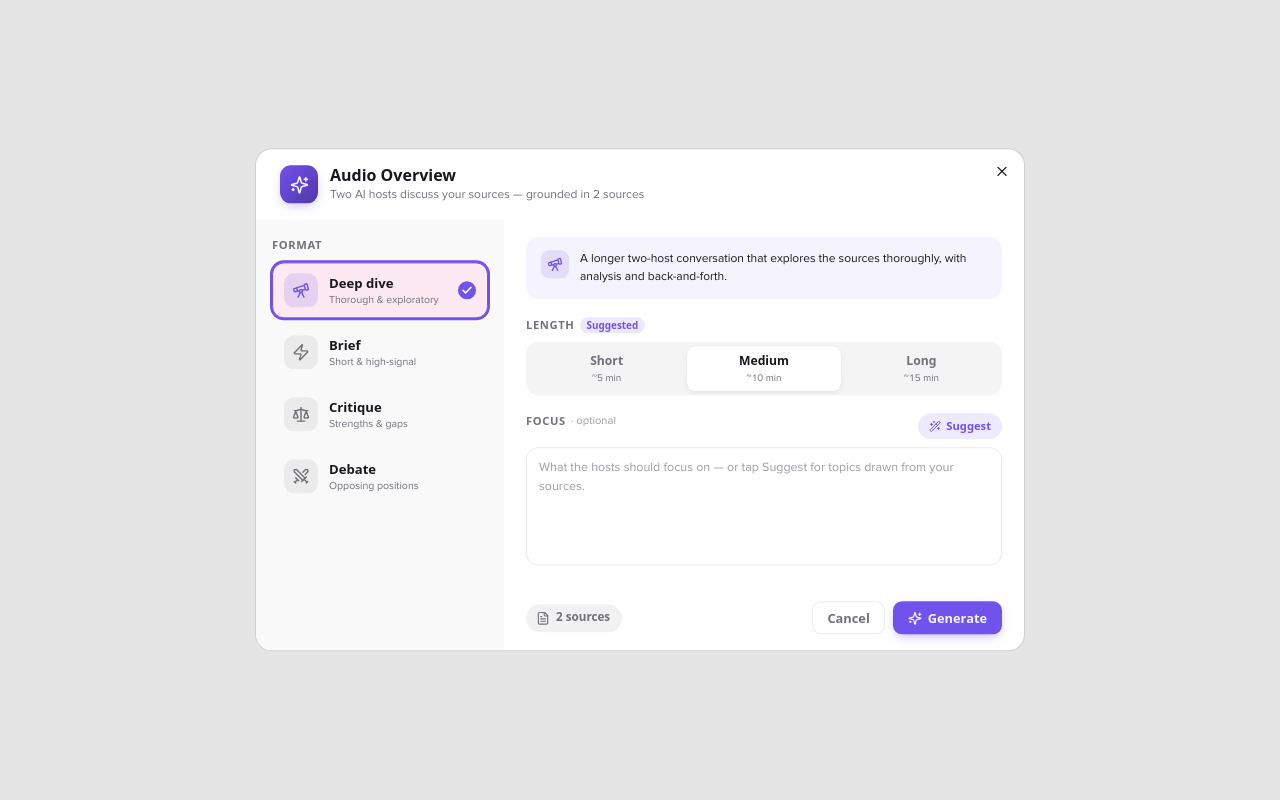
Scenario: AudioOverviewSetup — format & length › shows the selected format description
Click the button "Debate Opposing positions" at (380, 476), box [272,448,488,504]
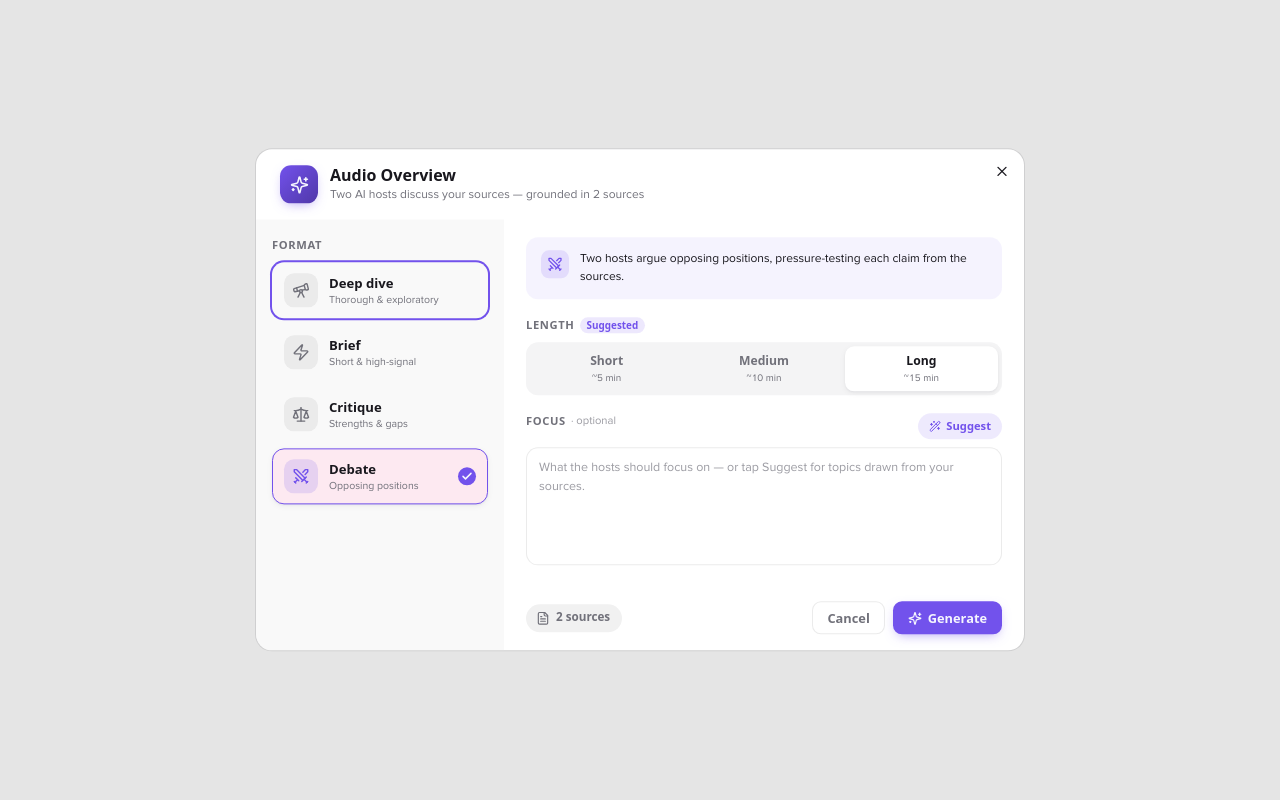
Expected: the text "argue opposing positions" is shown, [580,251,967,284]
